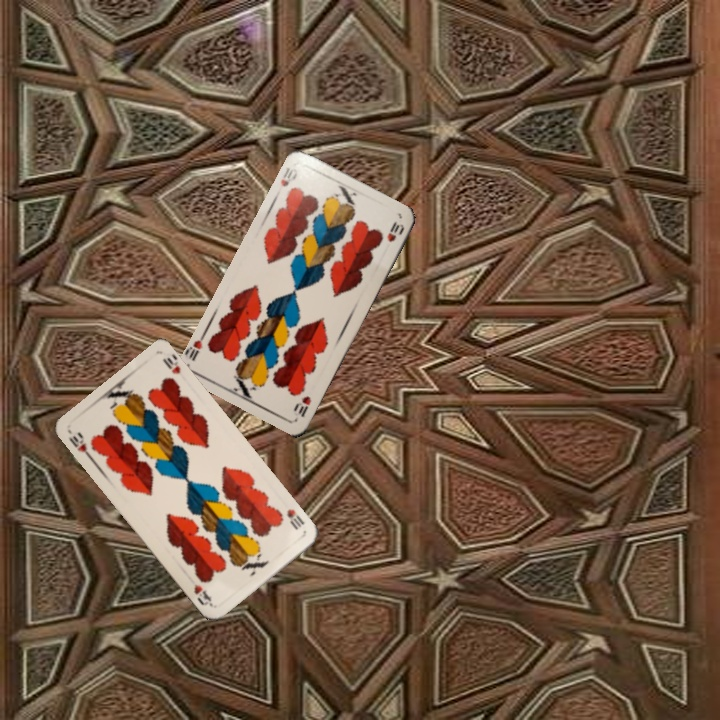H10: (64, 428, 95, 462), (282, 505, 307, 532), (276, 163, 300, 190), (291, 392, 314, 419)
